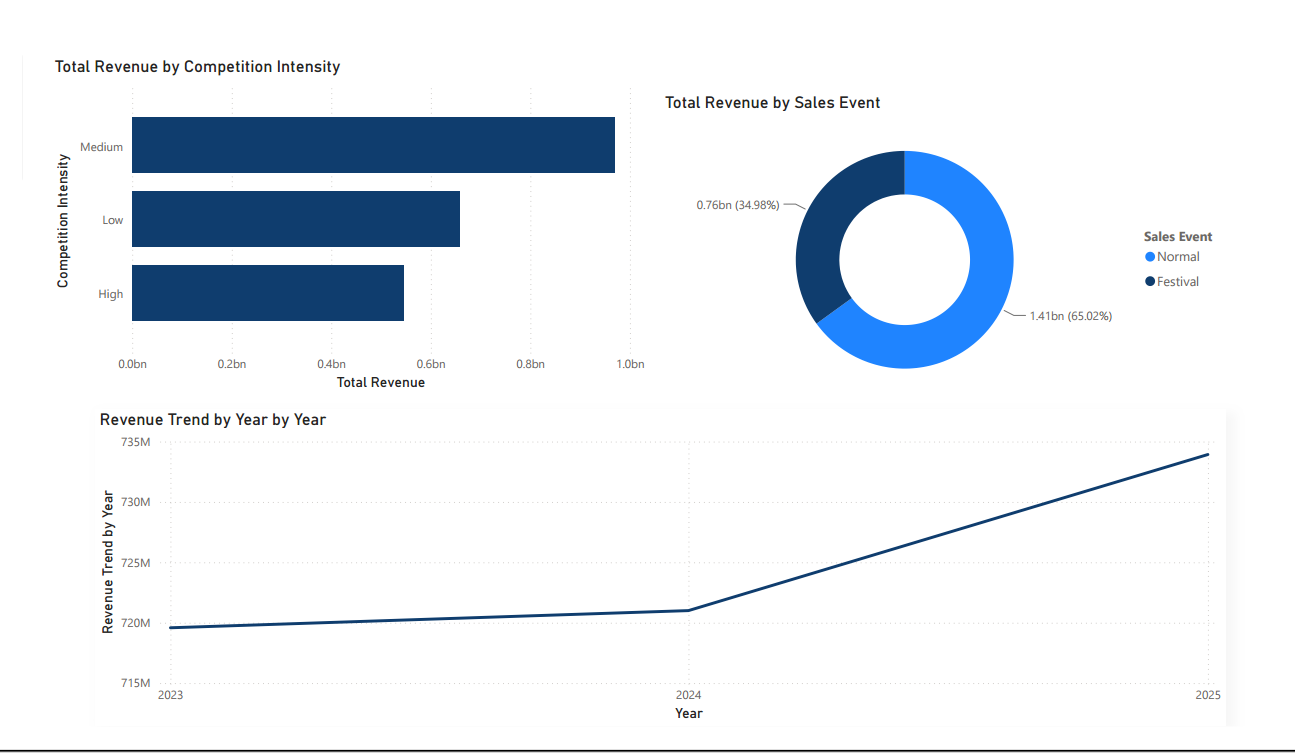

This screenshot's page, from the dashboard's own definition file:
{"tool":"powerbi","page":{"name":"Page 2","canvas":[1280,720],"ordinal":1},"visuals":[{"type":"clusteredBarChart","fields":{"Category":["indian_ecommerce_pricing_revenue_growth_36_months csv.competition_intensity"],"Y":["indian_ecommerce_pricing_revenue_growth_36_months csv.Total Revenue"]},"box":[27.7,36.2,612.8,344.7],"z":0},{"type":"donutChart","fields":{"Category":["indian_ecommerce_pricing_revenue_growth_36_months csv.sales_event"],"Y":["indian_ecommerce_pricing_revenue_growth_36_months csv.Total Revenue"]},"box":[651.1,72.3,587.2,323.4],"z":1},{"type":"lineChart","fields":{"Category":["indian_ecommerce_pricing_revenue_growth_36_months csv.order_date.Variation.Date Hierarchy.Year","indian_ecommerce_pricing_revenue_growth_36_months csv.order_date.Variation.Date Hierarchy.Quarter","indian_ecommerce_pricing_revenue_growth_36_months csv.order_date.Variation.Date Hierarchy.Month","indian_ecommerce_pricing_revenue_growth_36_months csv.order_date.Variation.Date Hierarchy.Day"],"Y":["indian_ecommerce_pricing_revenue_growth_36_months csv.tot revenue"]},"box":[74.5,395.7,1153.2,323.4],"z":2}]}

Visuals, with their boxes on the page's 1280x720 design canvas (x1, y1, x2, y2). These are canvas units, not pixel positions in the 1295x753 screenshot, which may show the page scaled, cropped or inside an application window:
clusteredBarChart - indian_ecommerce_pricing_revenue_growth_36_months csv.competition_intensity x indian_ecommerce_pricing_revenue_growth_36_months csv.Total Revenue: {"left": 28, "top": 36, "right": 640, "bottom": 381}
donutChart - indian_ecommerce_pricing_revenue_growth_36_months csv.sales_event x indian_ecommerce_pricing_revenue_growth_36_months csv.Total Revenue: {"left": 651, "top": 72, "right": 1238, "bottom": 396}
lineChart - indian_ecommerce_pricing_revenue_growth_36_months csv.order_date.Variation.Date Hierarchy.Year x indian_ecommerce_pricing_revenue_growth_36_months csv.order_date.Variation.Date Hierarchy.Quarter: {"left": 74, "top": 396, "right": 1228, "bottom": 719}
